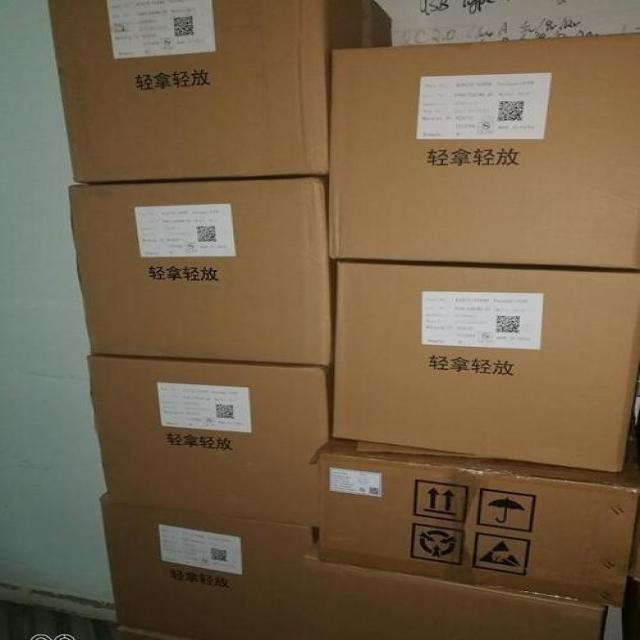box: (332, 33, 639, 269), (331, 261, 638, 470), (45, 0, 397, 182), (311, 441, 639, 603), (70, 181, 337, 366), (89, 350, 330, 526), (100, 495, 307, 639), (300, 556, 610, 638), (118, 625, 160, 639)
